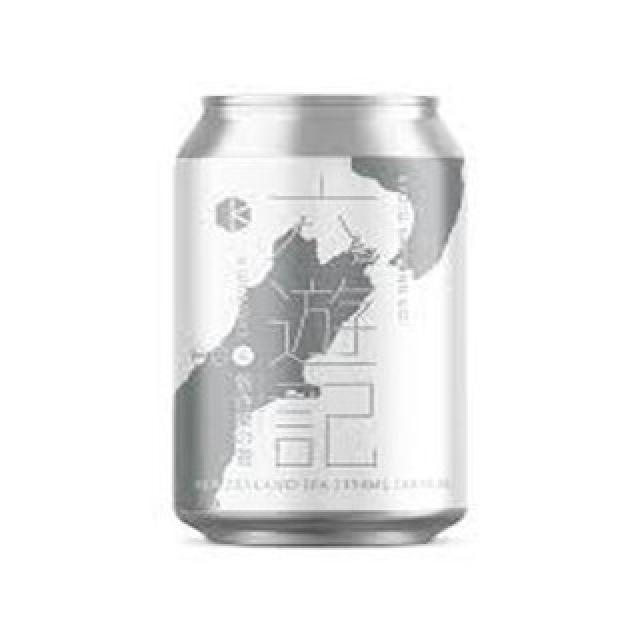recyclable: (170, 91, 468, 548)
